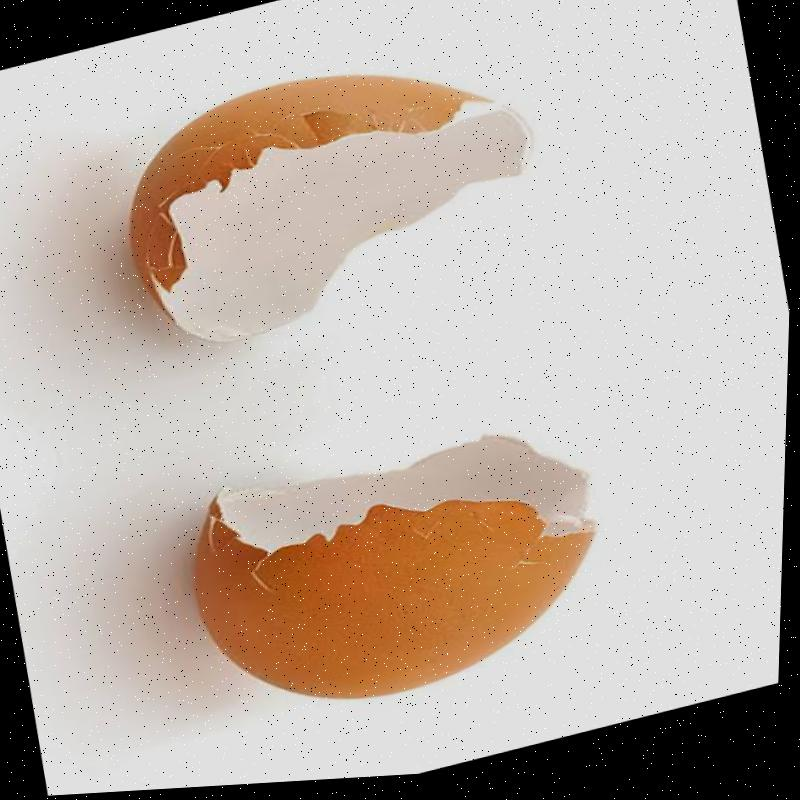egg shell: (124, 73, 534, 345), (189, 431, 597, 703)
